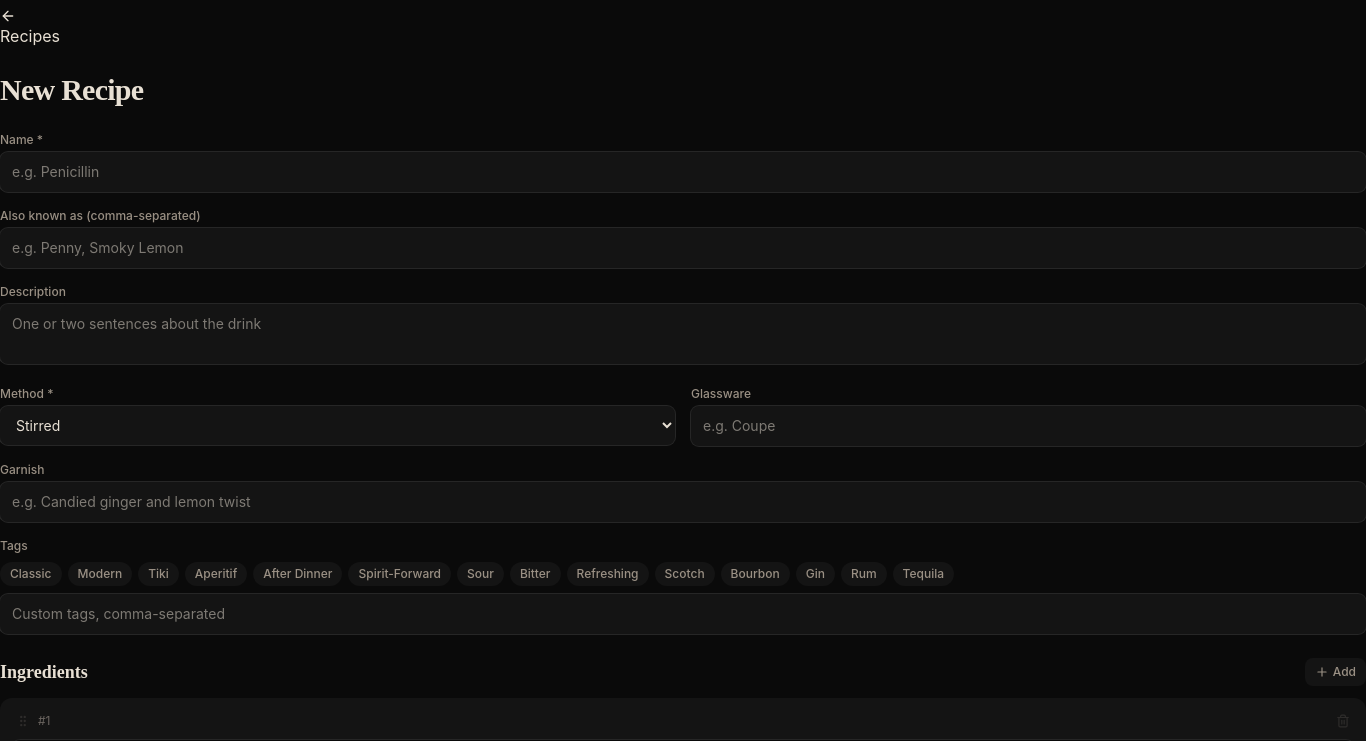
RecipeFormPage › new mode › shows the error and stays on the page when the save fails
In the field with placeholder "e.g. Penicillin": (683, 172) [0,152,1365,192], type "Negroni"
(page scrolled)
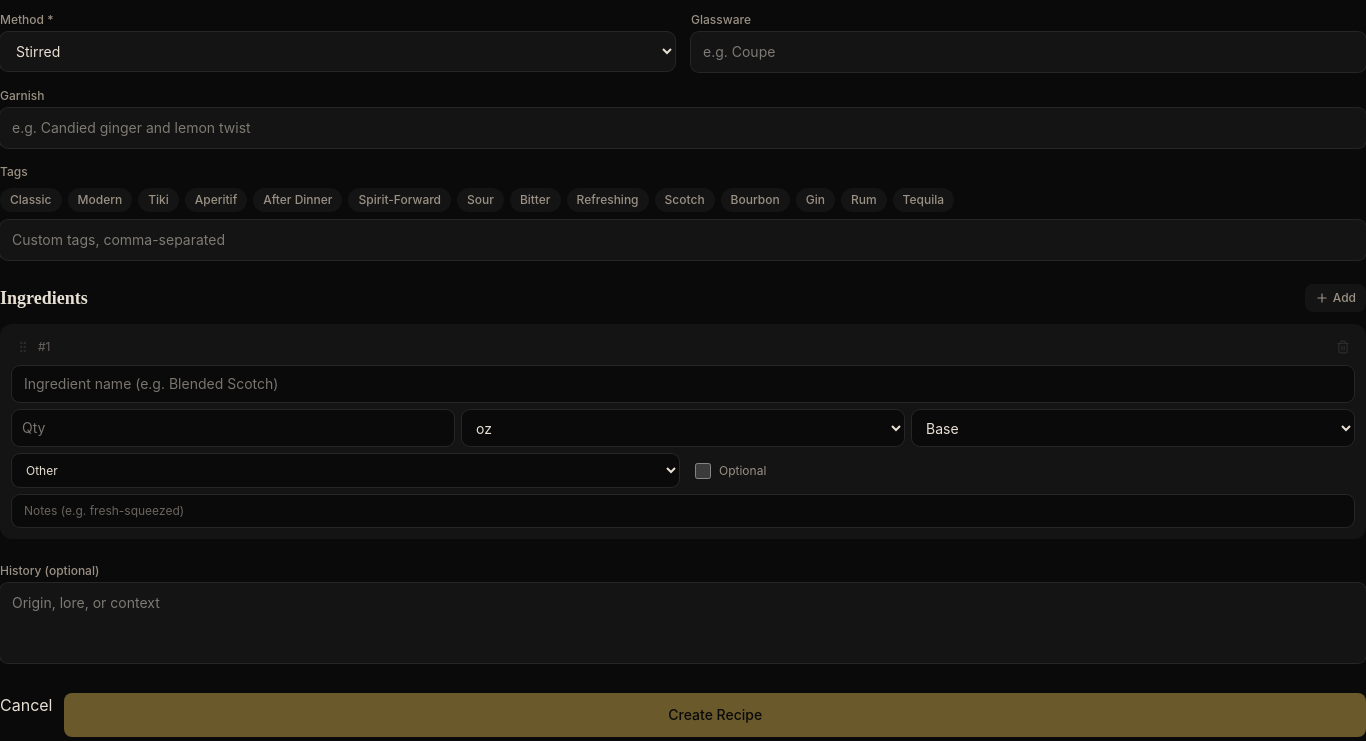
In the field with placeholder "Ingredient name (e.g. Blended Scotch)": (683, 384) [12,366,1354,402], type "Gin"
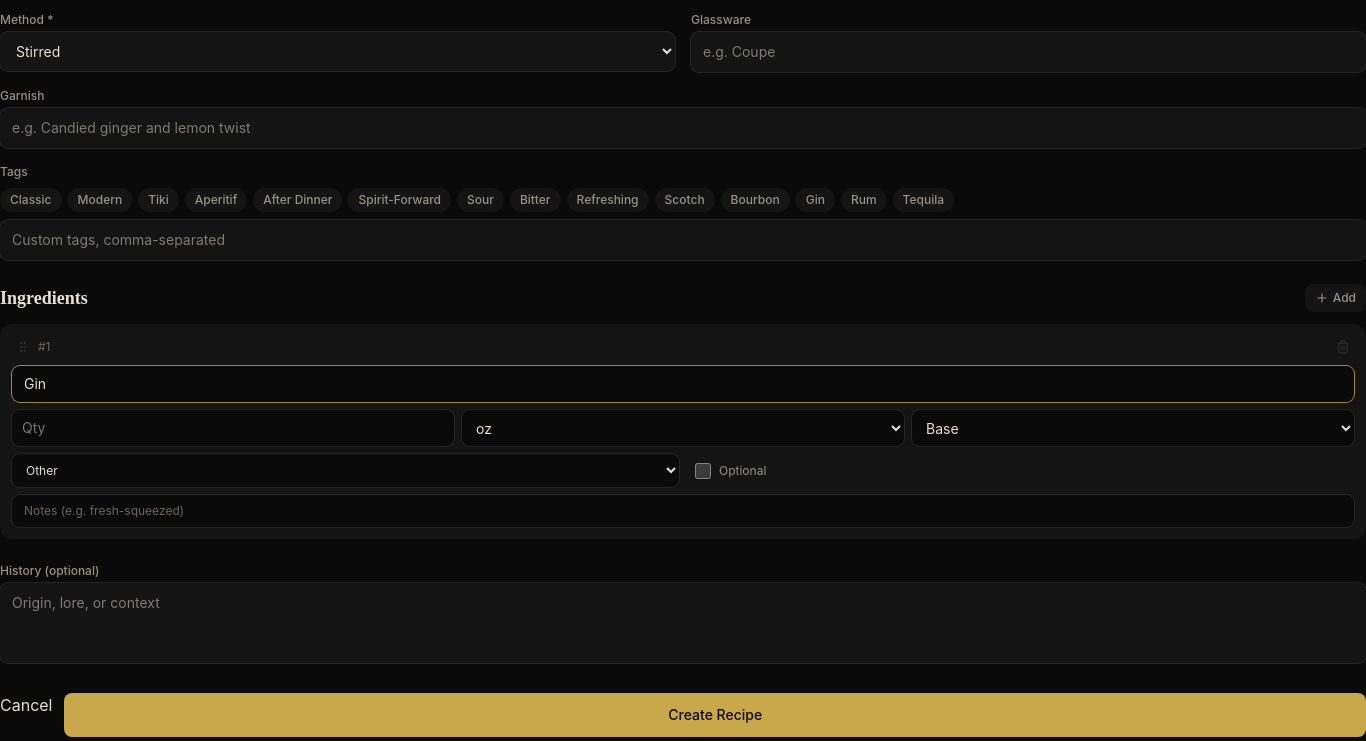
Click the button "Create Recipe": (715, 715) [64,693,1365,737]
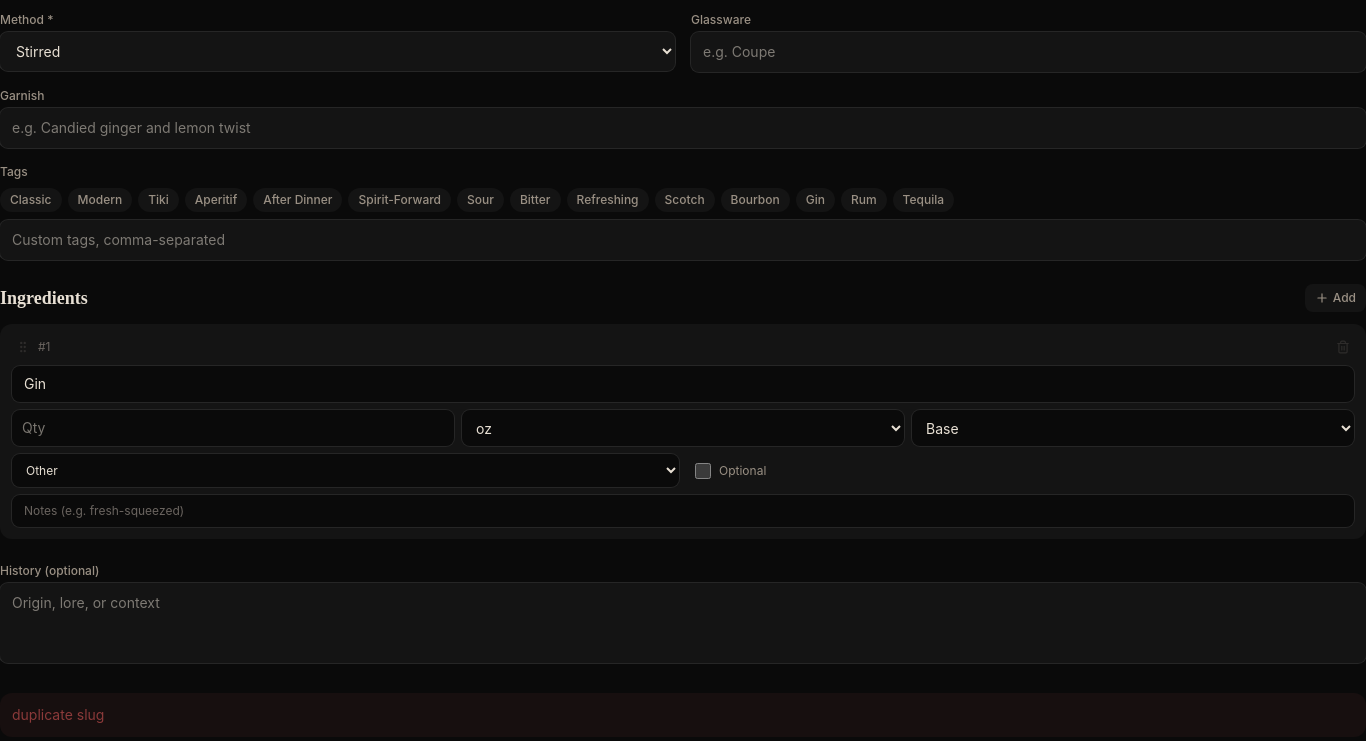
Check: the text "duplicate slug" is shown, box [12,706,104,723]
